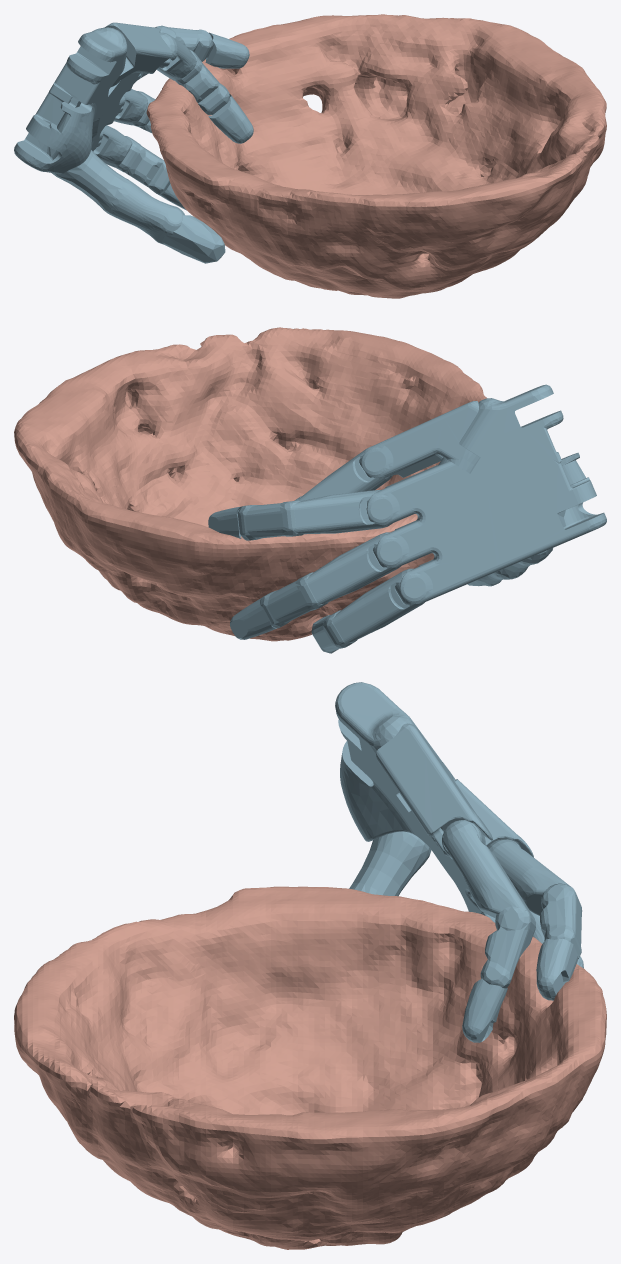
The model's file is 6_joint.glb.
3 renders of one model, top to bottom at view 1: azimuth 30°, elevation 25°; view 2: azimuth 150°, elevation 25°; view 3: azimuth 270°, elevation 25°, orthographic. The views are drawn at different scales.
Visible parts, largest first — view 1: world; view 2: world; view 3: world.
Part boxes in pixels (x1,y1,x2,y2): world: (14, 14, 606, 298); world: (14, 327, 606, 653); world: (14, 682, 606, 1249).
Bounding box in the file's own units: 2.26 × 1.2 × 1.71.
